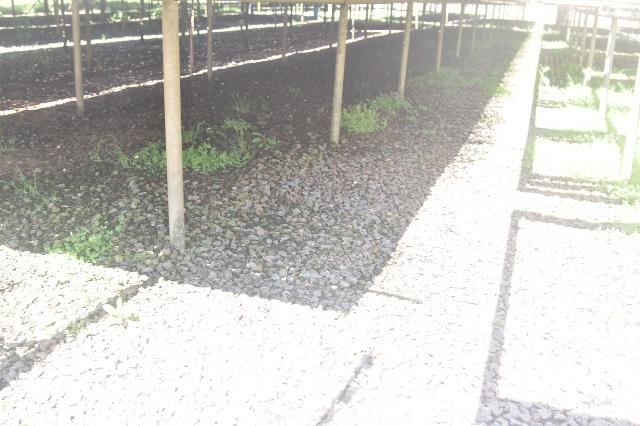MalezaMontesDelPlata: (45, 211, 128, 263), (181, 143, 252, 171), (112, 140, 164, 176), (339, 104, 385, 138), (409, 63, 463, 89), (368, 91, 413, 116), (212, 113, 259, 136)
